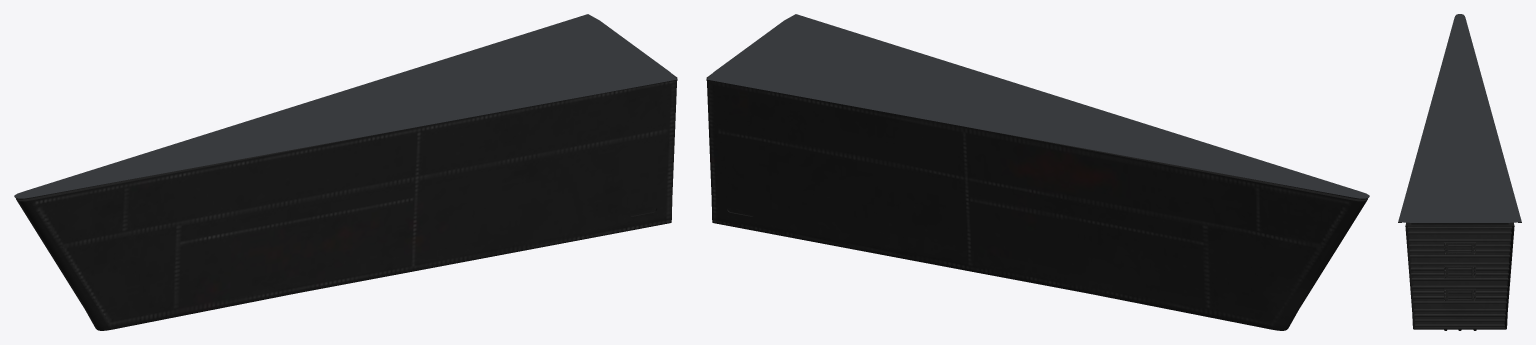
Rendered from x15_rudder_lower.glb.
The picture shows the model from 3 angles, left to right: view 1: azimuth 30°, elevation 25°; view 2: azimuth 150°, elevation 25°; view 3: azimuth 270°, elevation 25°; orthographic projection. The views are drawn at different scales.
Visible parts, largest first — view 1: rudder_lower_export; view 2: rudder_lower_export; view 3: rudder_lower_export.
Boxes of the visible parts, bbox=[...] form: rudder_lower_export: bbox=[14, 14, 677, 330]; rudder_lower_export: bbox=[706, 14, 1369, 330]; rudder_lower_export: bbox=[1398, 14, 1521, 330].
Bounding box in the file's own units: 3.27 × 0.7779 × 0.8144.
2 materials, 1 textured.
